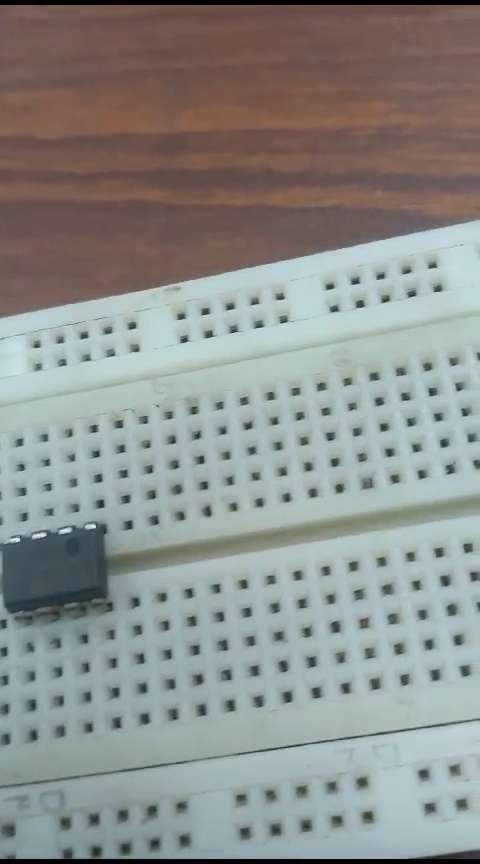IC: (4, 519, 114, 612)
